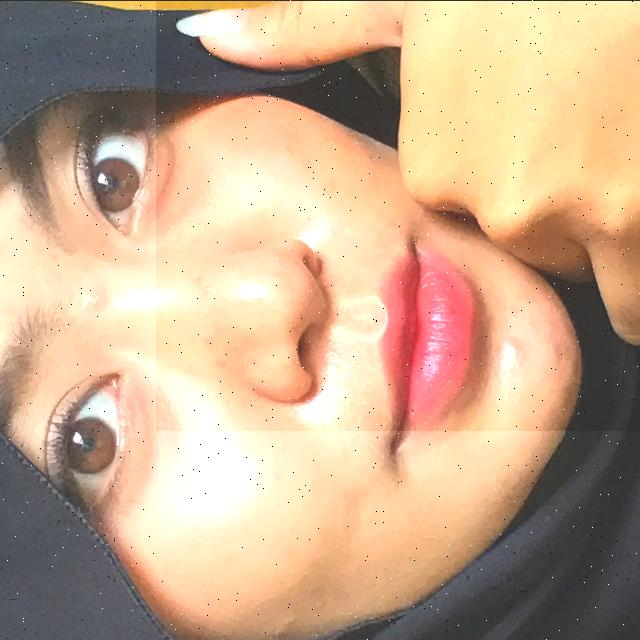telpon: (156, 0, 640, 430)
